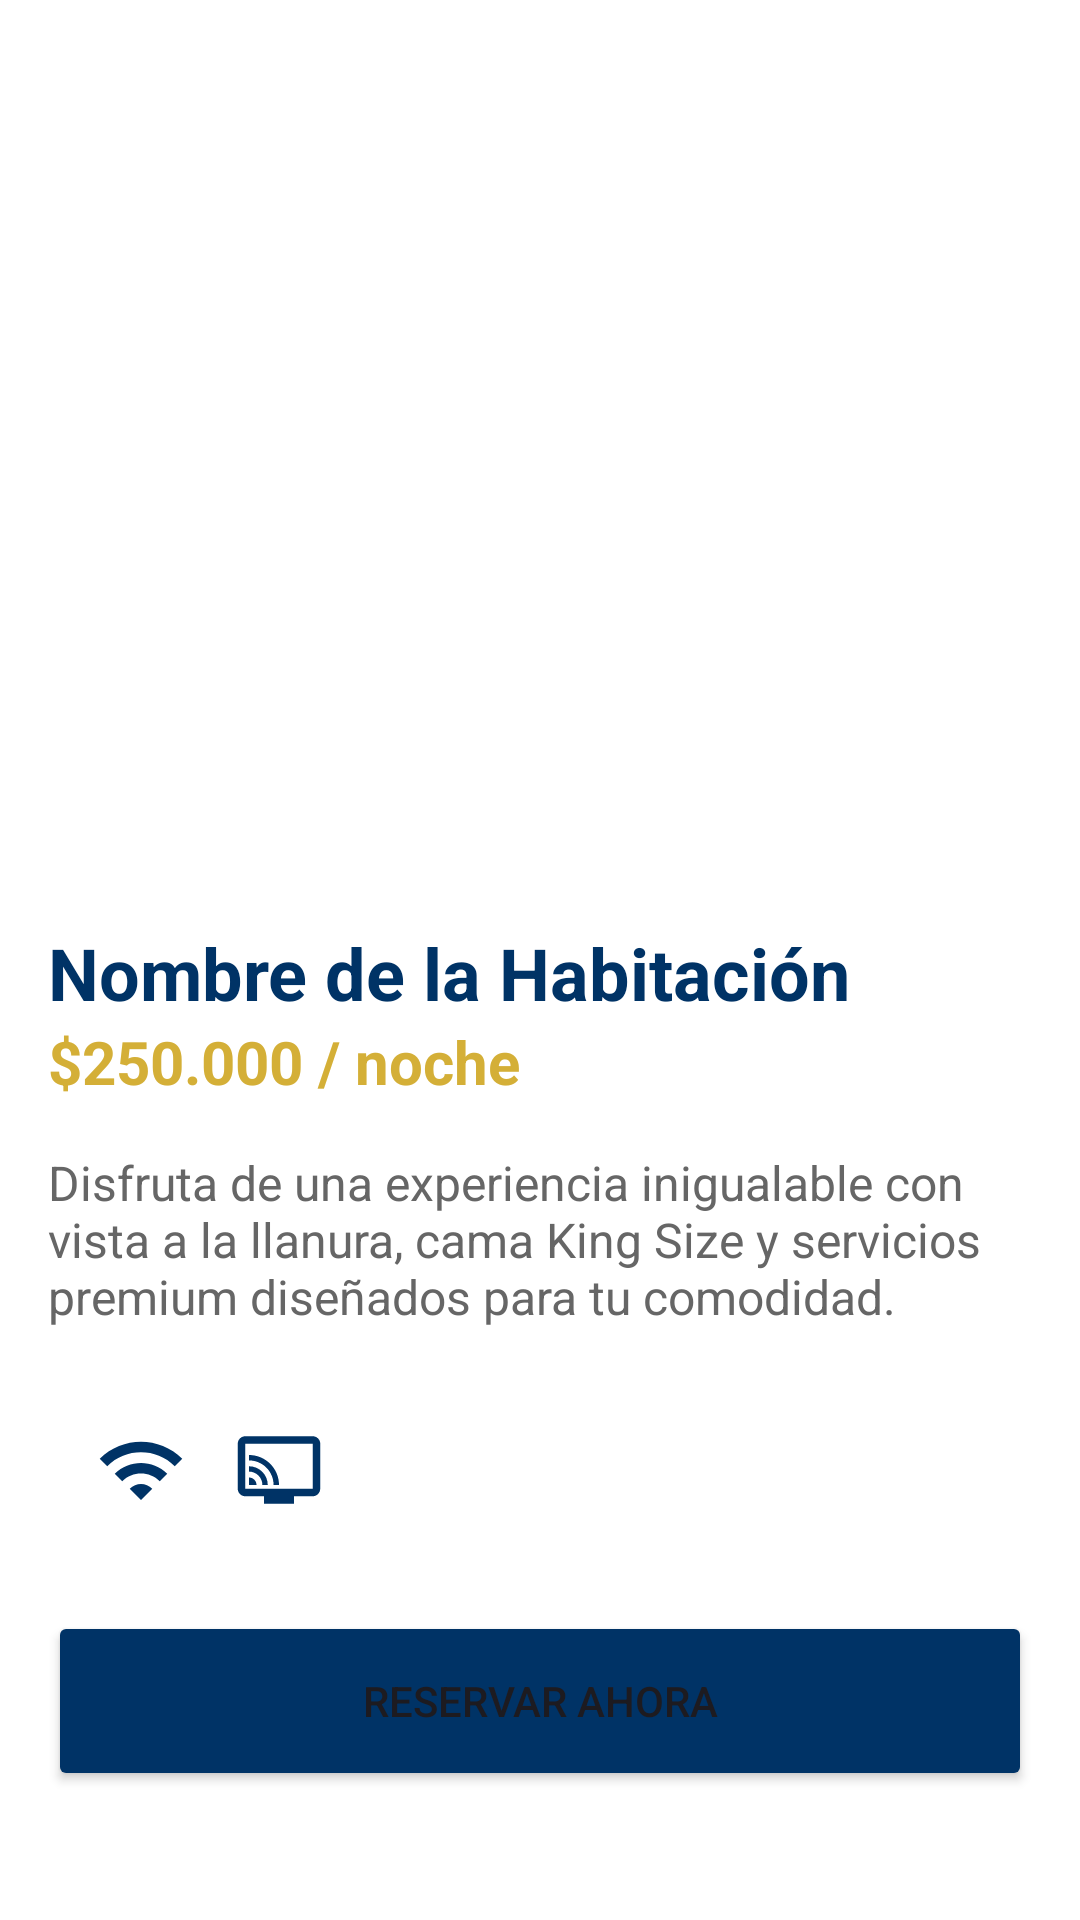

Where icons sit on this 1080x1920 app screen, as (x1, y1, x2, y2):
wifi: (100, 1441, 182, 1500)
